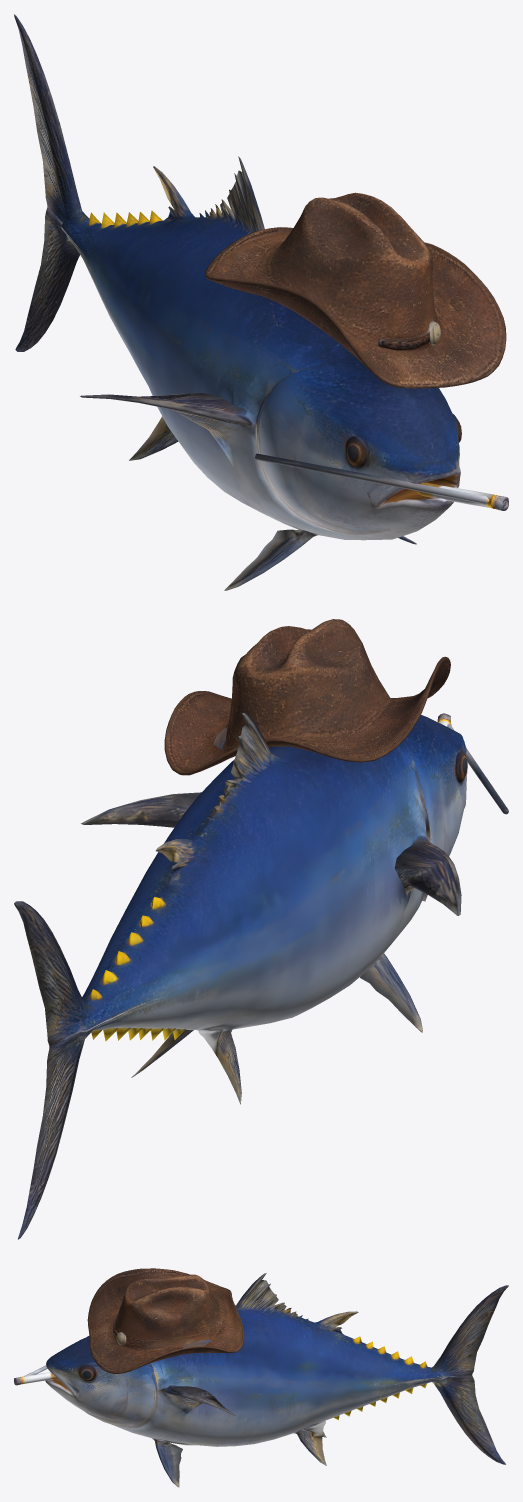
Rendered from tuna.glb.
3 renders of one model, top to bottom at view 1: azimuth 30°, elevation 25°; view 2: azimuth 150°, elevation 25°; view 3: azimuth 270°, elevation 25°, orthographic. The views are drawn at different scales.
Parts seen in each view (by area): view 1: tripo_node_ac516789-63d2-4ad8-b9c4-b57f70930e0e; view 2: tripo_node_ac516789-63d2-4ad8-b9c4-b57f70930e0e; view 3: tripo_node_ac516789-63d2-4ad8-b9c4-b57f70930e0e.
Part boxes in pixels (x1,y1,x2,y2): tripo_node_ac516789-63d2-4ad8-b9c4-b57f70930e0e: (14, 14, 508, 590); tripo_node_ac516789-63d2-4ad8-b9c4-b57f70930e0e: (14, 619, 508, 1239); tripo_node_ac516789-63d2-4ad8-b9c4-b57f70930e0e: (14, 1268, 508, 1487).
Bounding box in the file's own units: 0.4683 × 0.4331 × 0.9995.
1 material, 1 textured.
